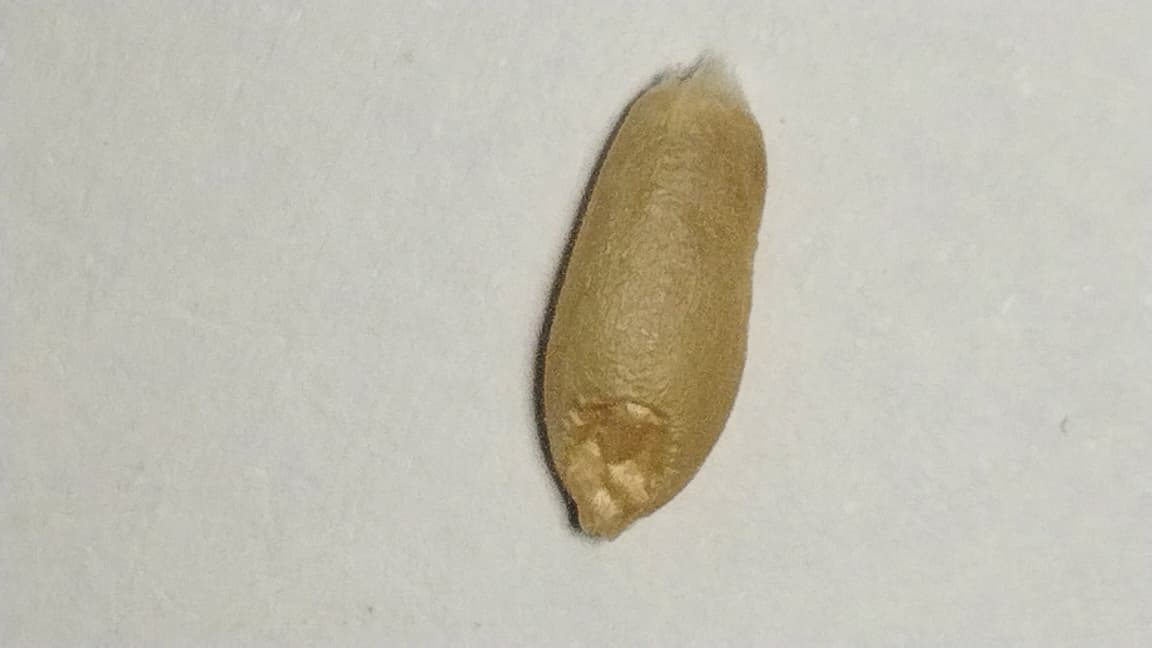healthy: (543, 65, 764, 535)
